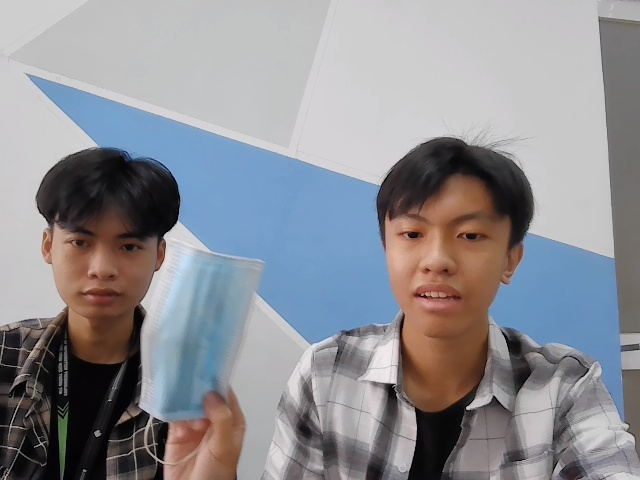human: (380, 135, 529, 337), (34, 144, 175, 312)
mask: (134, 231, 262, 426)
